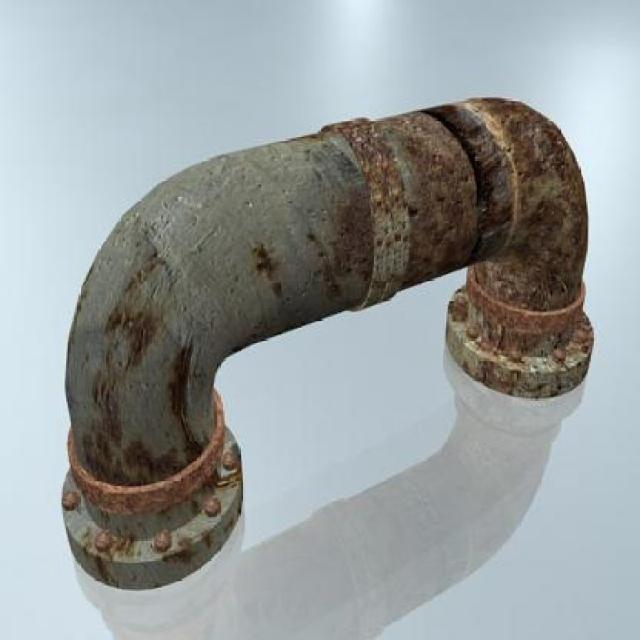corrosion: (57, 91, 597, 609)
